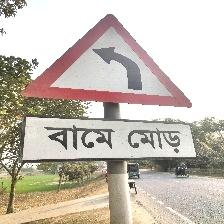Left-Turn: (17, 14, 195, 158)
